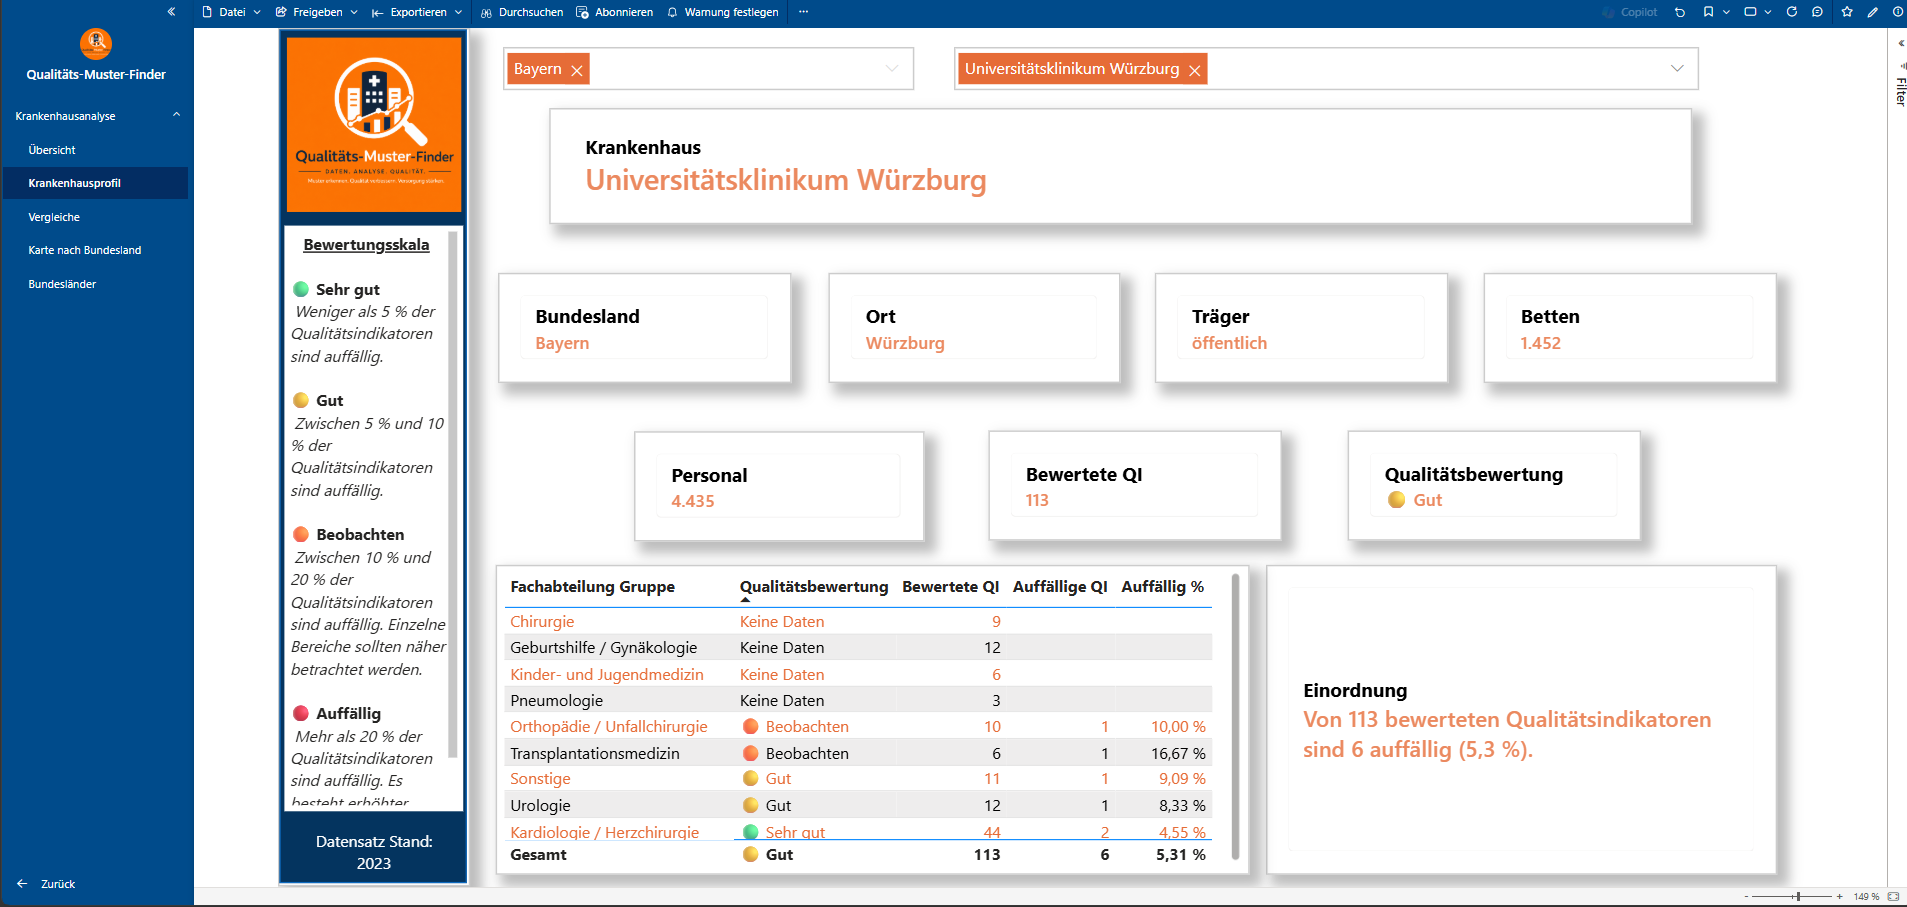

What the dashboard file says about the page in this screenshot:
{"tool":"powerbi","page":{"name":"Krankenhausprofil","canvas":[1280,720],"ordinal":3},"visuals":[{"type":"cardVisual","fields":{"Data":["Berechnungen.Krankenhaus Anzeige"]},"box":[227.6,67.2,959.2,97.3],"z":0},{"type":"SmartFilterBySQLBI1458262140625","fields":{"Values":["SO.KH.Name"]},"box":[562.2,7.8,637.1,452.3],"z":1000},{"type":"shape","box":[0,0,161.1,720],"z":2000},{"type":"image","box":[0,7.9,161.1,146.5],"z":3000},{"type":"textbox","box":[0,667.2,161.2,52.8],"z":4000},{"type":"SmartFilterBySQLBI1458262140625","fields":{"Values":["SO.SO.Bundesland"]},"box":[183.8,8.5,356.9,450.9],"z":5000},{"type":"cardVisual","fields":{"Data":["Berechnungen.Bundesland Anzeige"]},"box":[184.7,205.1,246.3,92.2],"z":6000},{"type":"cardVisual","fields":{"Data":["Berechnungen.Ort Anzeige"]},"box":[461.8,205.4,245.4,92.2],"z":7000},{"type":"cardVisual","fields":{"Data":["Min(SO.KH.Träger.Art)"]},"box":[735.5,205.4,246.3,92.2],"z":8000},{"type":"cardVisual","fields":{"Data":["Berechnungen.Betten Anzeige"]},"box":[1011.3,205.4,246.3,92.1],"z":9000},{"type":"cardVisual","fields":{"Data":["Berechnungen.Personal Anzeige"]},"box":[298.4,338,243.2,92.1],"z":10000},{"type":"cardVisual","fields":{"Data":["Berechnungen.Bewertete QI eindeutig"]},"box":[596.2,337.5,246.3,92.2],"z":11000},{"type":"cardVisual","fields":{"Data":["Berechnungen.Bewertungstext"]},"box":[828.7,450.1,429.1,260.2],"z":12000},{"type":"cardVisual","fields":{"Data":["Berechnungen.Qualitätsbewertung"]},"box":[897,337.5,246.3,92.1],"z":13000},{"type":"tableEx","fields":{"Values":["QS Qualitätsindikator.Fachabteilung Gruppe","Berechnungen.Qualitätsbewertung","Berechnungen.Bewertete QI eindeutig","Berechnungen.Auffällige QI eindeutig","Berechnungen.Anteil auffälliger QI eindeutig"]},"box":[182.5,450.1,632.6,260.2],"z":14000},{"type":"textbox","box":[5.4,165.7,150.4,491.6],"z":15000}]}

Visuals, with their boxes on the page's 1280x720 design canvas (x1, y1, x2, y2). These are canvas units, not pixel positions in the 1907x907 screenshot, which may show the page scaled, cropped or inside an application window:
cardVisual - Berechnungen.Krankenhaus Anzeige: select_region(228, 67, 1187, 164)
SmartFilterBySQLBI1458262140625 - SO.KH.Name: select_region(562, 8, 1199, 460)
shape: select_region(0, 0, 161, 720)
image: select_region(0, 8, 161, 154)
textbox: select_region(0, 667, 161, 720)
SmartFilterBySQLBI1458262140625 - SO.SO.Bundesland: select_region(184, 8, 541, 459)
cardVisual - Berechnungen.Bundesland Anzeige: select_region(185, 205, 431, 297)
cardVisual - Berechnungen.Ort Anzeige: select_region(462, 205, 707, 298)
cardVisual - Min(SO.KH.Träger.Art): select_region(736, 205, 982, 298)
cardVisual - Berechnungen.Betten Anzeige: select_region(1011, 205, 1258, 298)
cardVisual - Berechnungen.Personal Anzeige: select_region(298, 338, 542, 430)
cardVisual - Berechnungen.Bewertete QI eindeutig: select_region(596, 338, 842, 430)
cardVisual - Berechnungen.Bewertungstext: select_region(829, 450, 1258, 710)
cardVisual - Berechnungen.Qualitätsbewertung: select_region(897, 338, 1143, 430)
tableEx - QS Qualitätsindikator.Fachabteilung Gruppe x Berechnungen.Qualitätsbewertung: select_region(182, 450, 815, 710)
textbox: select_region(5, 166, 156, 657)
